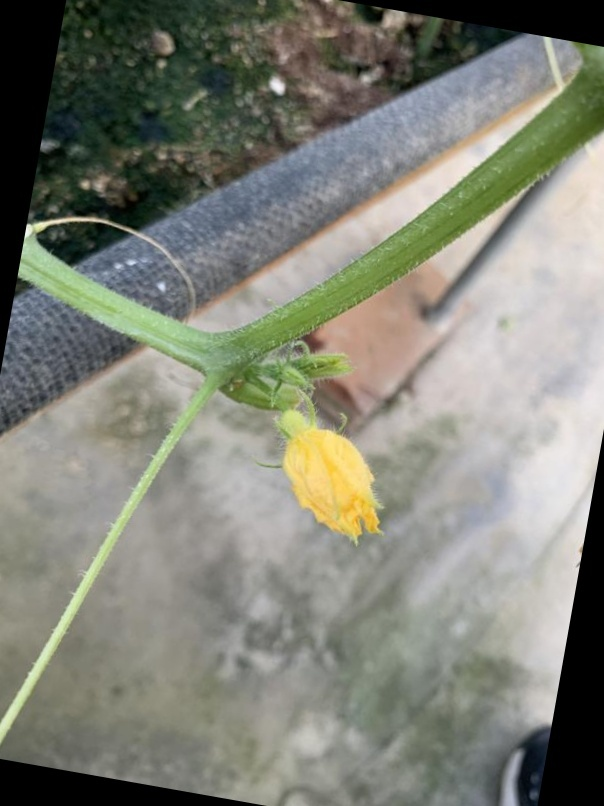bud: (250, 389, 439, 556)
